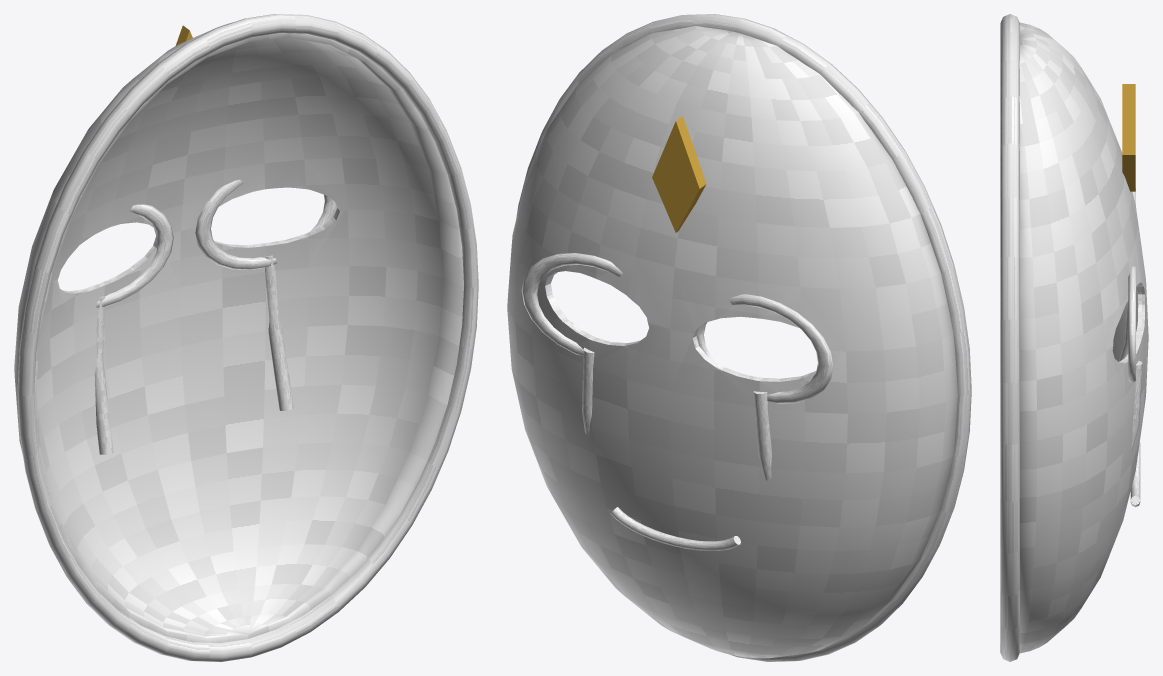
The model's file is fool.obj.
The picture shows the model from 3 angles, left to right: view 1: azimuth 30°, elevation 25°; view 2: azimuth 150°, elevation 25°; view 3: azimuth 270°, elevation 25°; orthographic projection. The views are drawn at different scales.
Bounding box in the file's own units: 0.7125 × 0.95 × 0.2085.
